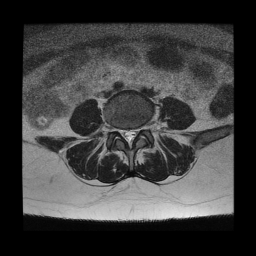CCS_normal: (125, 123, 132, 153)
LFS_stenosis: (138, 120, 145, 138)
LLS_normal: (131, 122, 138, 145)
RFS_stenosis: (113, 120, 120, 138)
RLS_normal: (119, 122, 125, 145)
